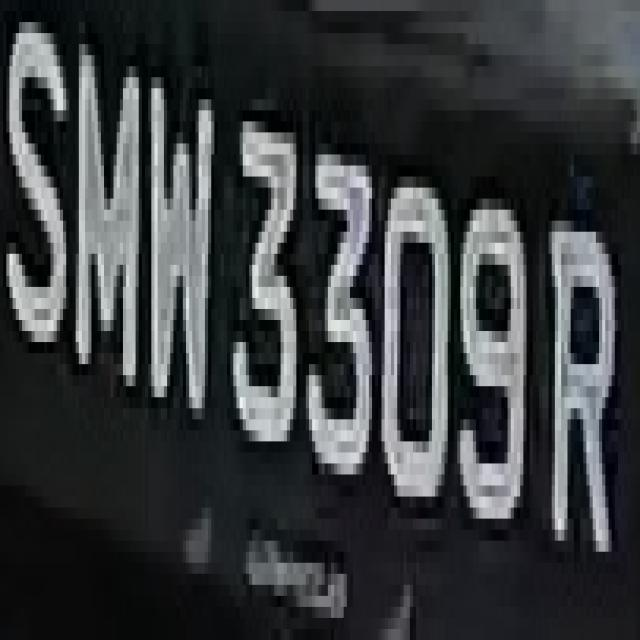0: (375, 143, 454, 552)
3: (300, 100, 375, 497), (240, 78, 300, 464)
9: (454, 154, 530, 574)
M: (66, 33, 145, 397)
R: (546, 198, 624, 562)
S: (10, 0, 70, 397)
W: (142, 55, 221, 419)
